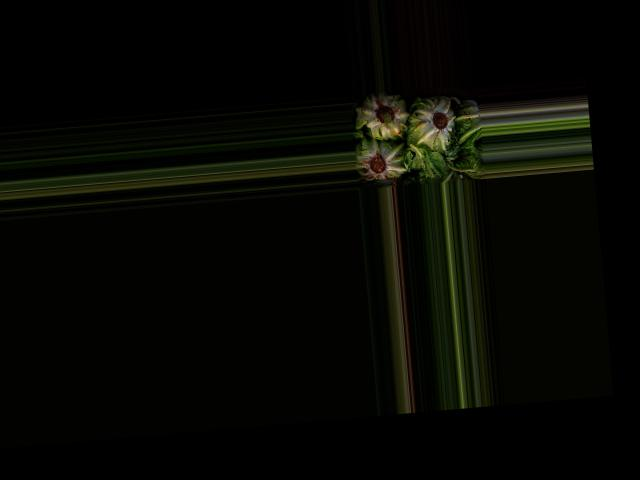lettuce: (354, 135, 408, 183)
